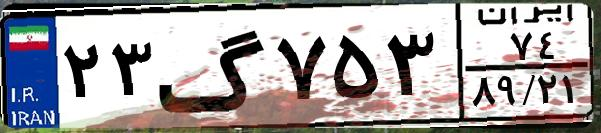1: (560, 70, 590, 125)
2: (57, 26, 110, 100), (535, 70, 560, 125)
3: (385, 28, 445, 110), (110, 28, 156, 98)
4: (537, 27, 568, 80)
5: (330, 28, 385, 110)
7: (270, 28, 330, 110), (508, 27, 537, 80)
8: (470, 70, 495, 125)
9: (495, 70, 520, 125)
گ: (156, 12, 270, 120)
